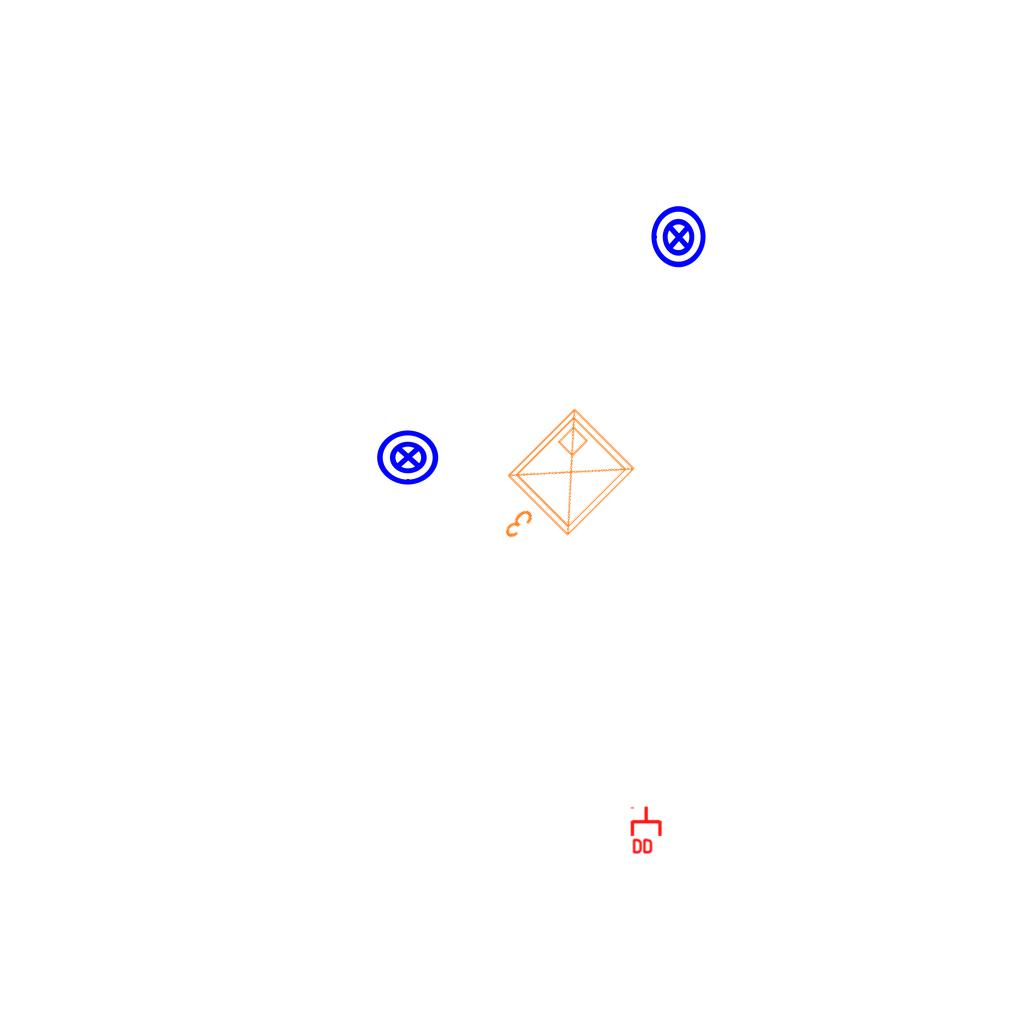Datenanschluss_zweifach: (630, 805, 664, 856)
Einbaudownlights_LED_Konferenzraeume: (468, 398, 648, 578)
Taster_beleuchtet: (375, 424, 441, 490), (646, 204, 712, 270)
